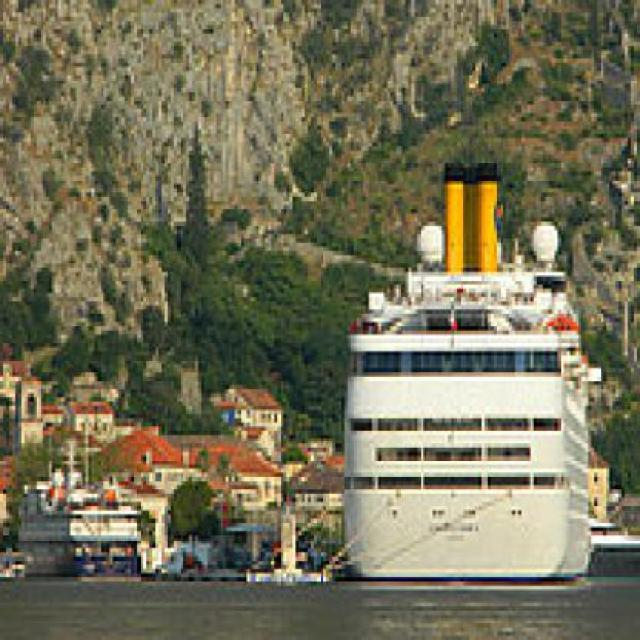cruise: (327, 151, 607, 591)
